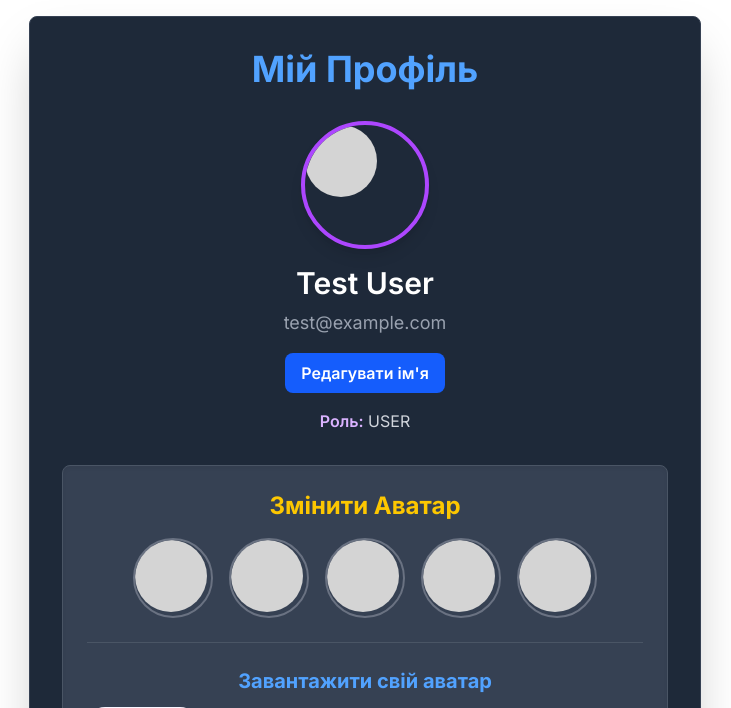
it: ProfilePage › allows cancelling name edit
The image size is (731, 708).
Check: the heading "Test User" is shown, box [296,265,434,301]
Click the button "Редагувати ім'я": click(365, 373) [285,353,445,393]
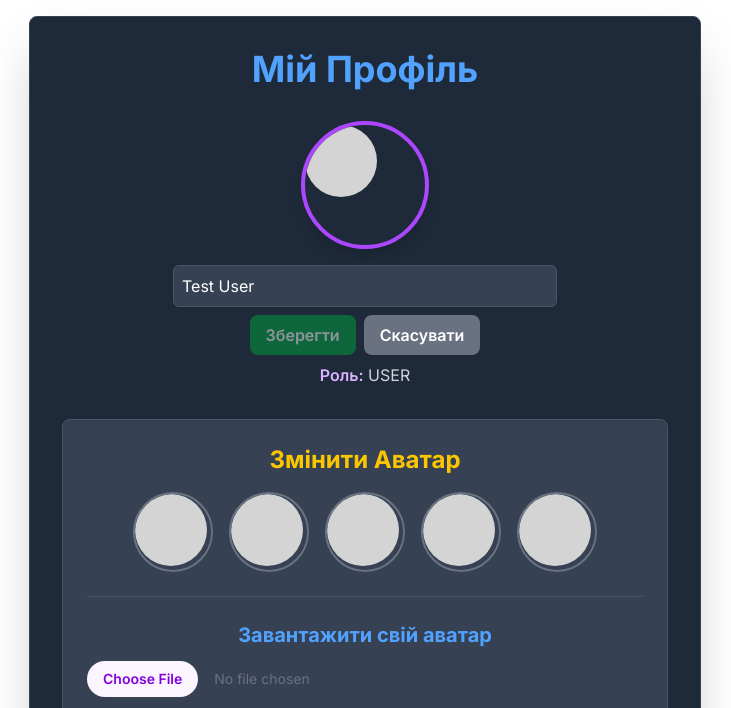
Replace the text in the field with placeholder "Введіть нове ім'я" with "Temporary Name": (365, 286) [173,265,557,307]
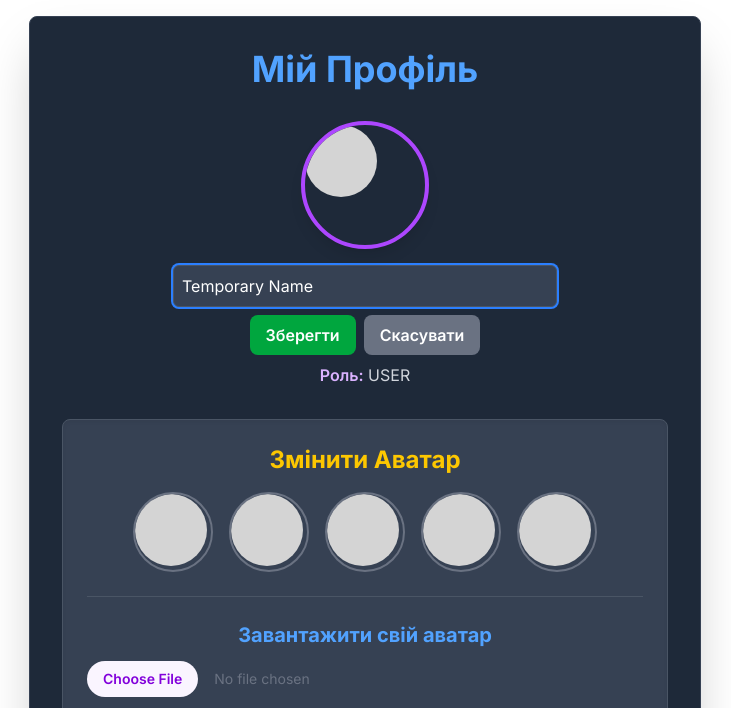
Click the button "Скасувати": click(422, 335) [364,315,480,355]
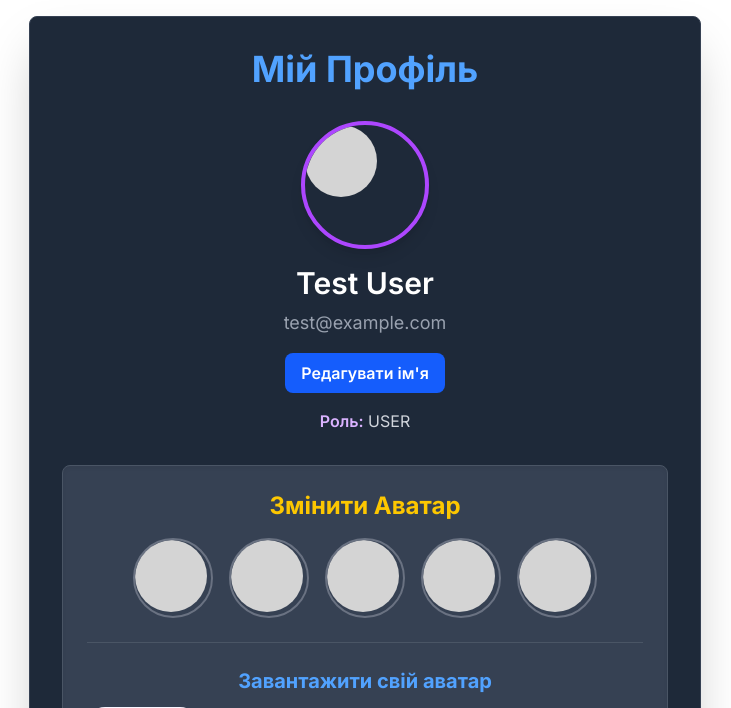
Check: the heading "Test User" is shown, box [296,265,434,301]
